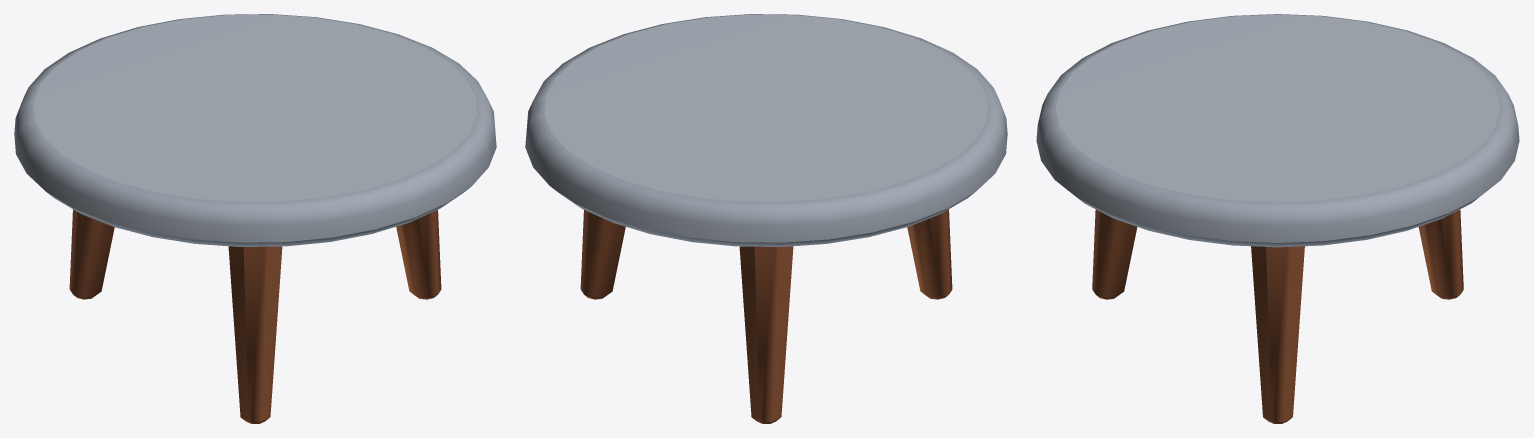
Rendered from mesa_centro_redonda_cinza_pacote.glb.
The picture shows the model from 3 angles, left to right: view 1: azimuth 30°, elevation 25°; view 2: azimuth 150°, elevation 25°; view 3: azimuth 270°, elevation 25°; orthographic projection.
Parts seen in each view (by area): view 1: mesa_centro_redonda_cinza_pacote; view 2: mesa_centro_redonda_cinza_pacote; view 3: mesa_centro_redonda_cinza_pacote.
Part boxes in pixels (<box>): mesa_centro_redonda_cinza_pacote: <box>14,14,496,423</box>; mesa_centro_redonda_cinza_pacote: <box>525,14,1007,423</box>; mesa_centro_redonda_cinza_pacote: <box>1036,14,1519,423</box>.
Bounding box in the file's own units: 0.8041 × 0.4234 × 0.8041.
1 material, 1 textured.
